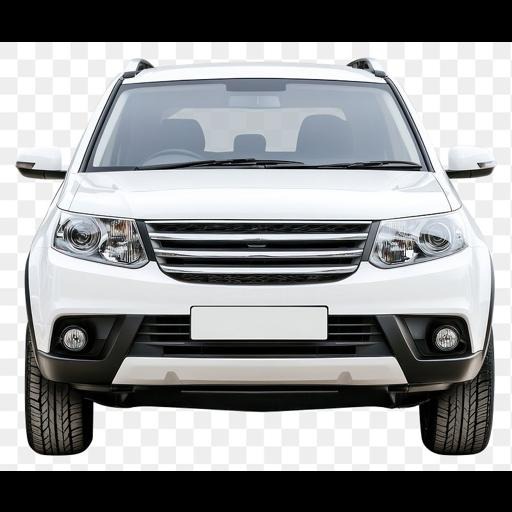suv: (16, 58, 495, 454)
